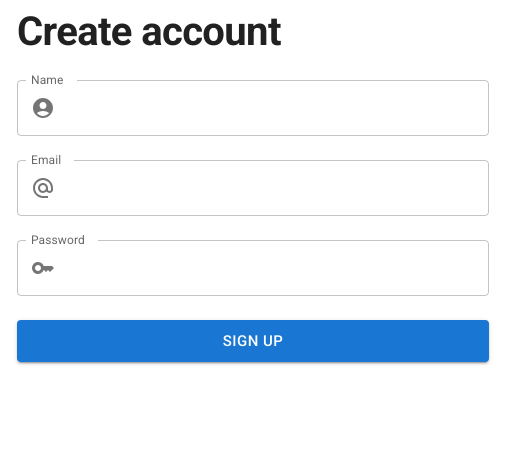
Test: AuthForm › links a duplicate email error only to the email field
In the field labelled "Name": (276, 108) [63,80,489,136], type "Alex Mercer"
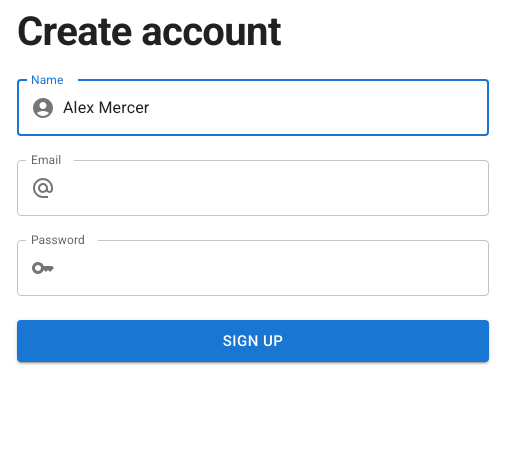
In the field labelled "Email": (276, 188) [63,160,489,216], type "alex@example.com"
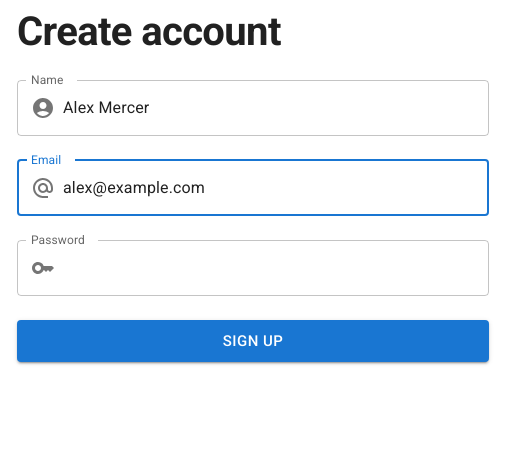
In the password field labelled "Password": (276, 268) [63,240,489,296], type "secret123"
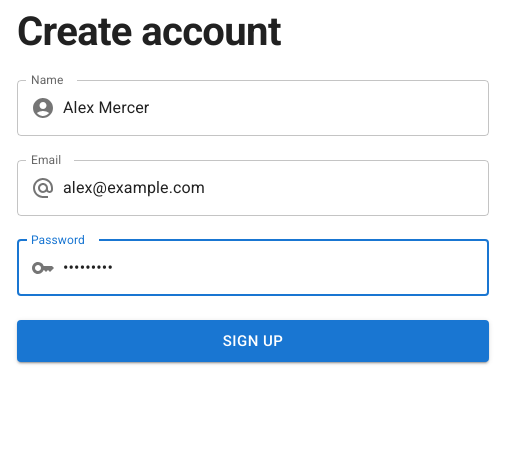
Click the button "Sign up": (253, 341) [17,320,489,362]
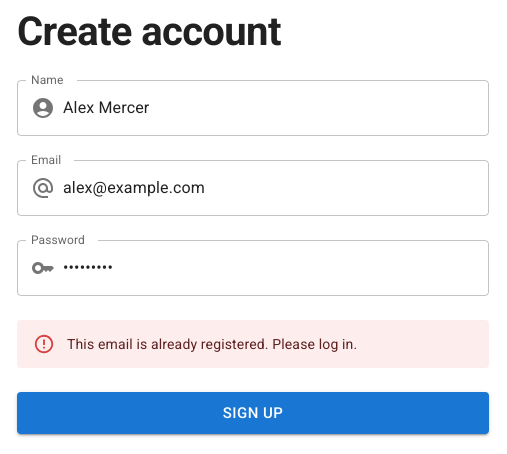
Check: the message reads "This email is already registered. Please log in.", box [67,336,357,352]
